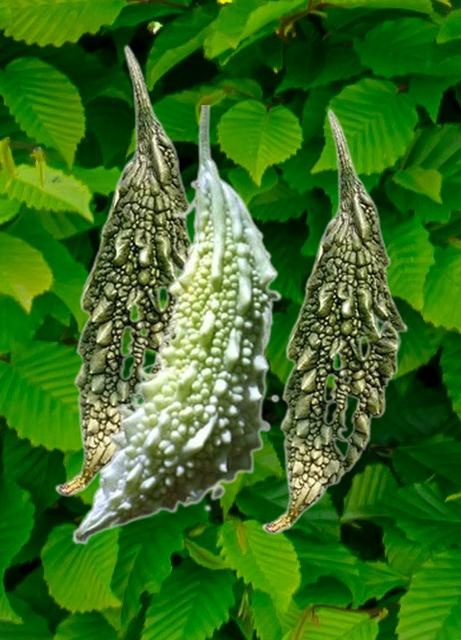ampalaya: (71, 105, 281, 544), (261, 107, 407, 533), (54, 43, 191, 495)
